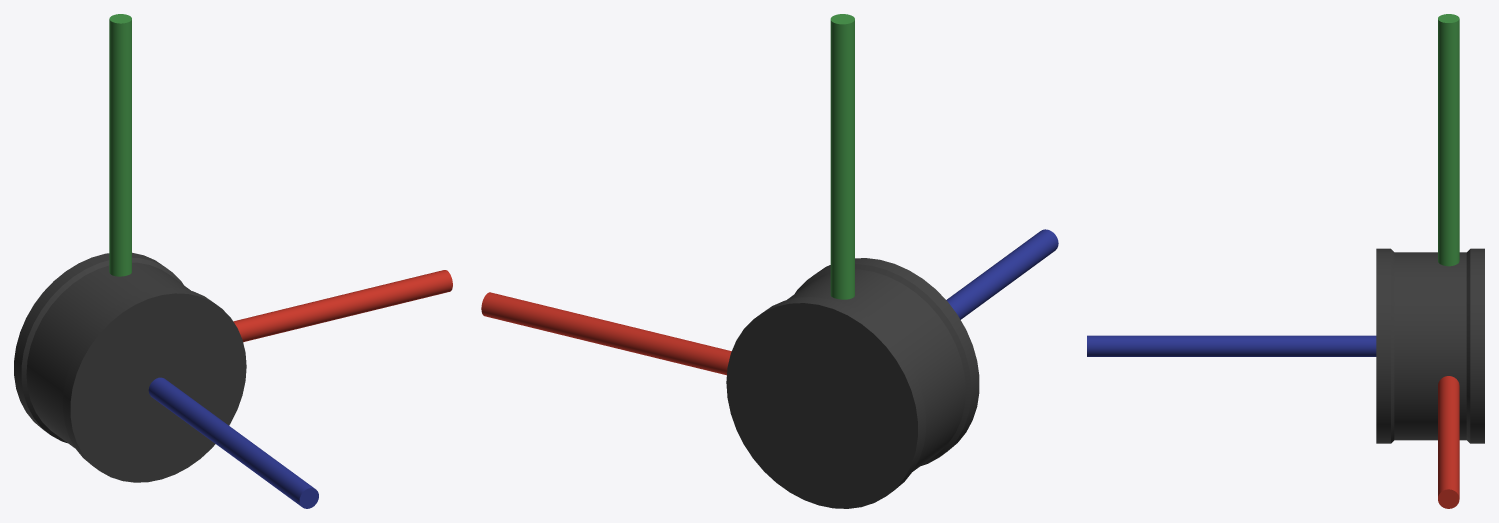
Rendered from ToolFrame.obj.
3 renders of one model, left to right at view 1: azimuth 30°, elevation 25°; view 2: azimuth 150°, elevation 25°; view 3: azimuth 270°, elevation 25°, orthographic. The views are drawn at different scales.
Parts seen in each view (by area): view 1: ToolFrame; view 2: ToolFrame; view 3: ToolFrame.
Boxes of the visible parts, <box> form: ToolFrame: <box>14,14,452,508</box>; ToolFrame: <box>481,14,1058,508</box>; ToolFrame: <box>1087,14,1484,508</box>.
Size of the model in its own units: 0.0635 by 0.0635 by 0.055.
